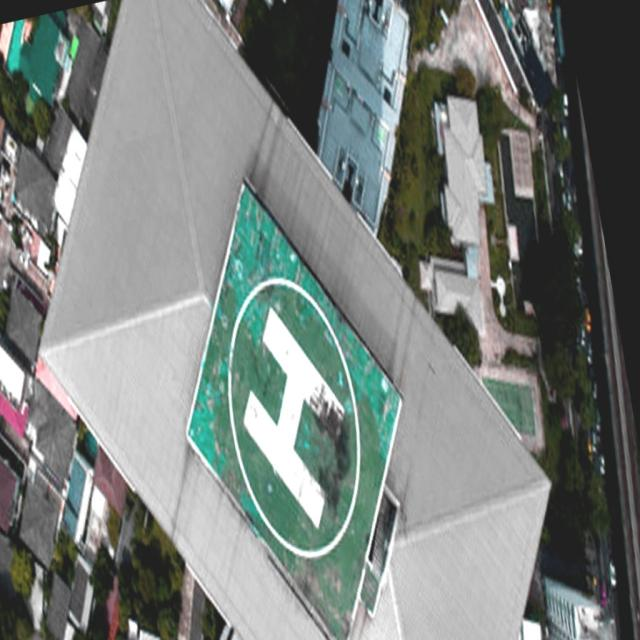helipad: (221, 270, 367, 560)
